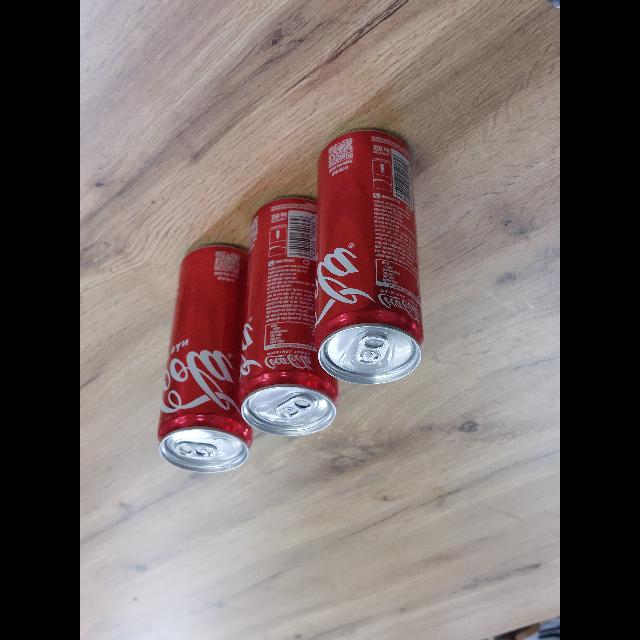coca_cola: (315, 130, 423, 384), (239, 198, 338, 436), (158, 246, 252, 472)
